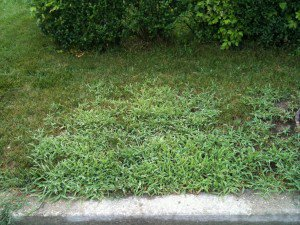crabgrass: (21, 120, 266, 192)
